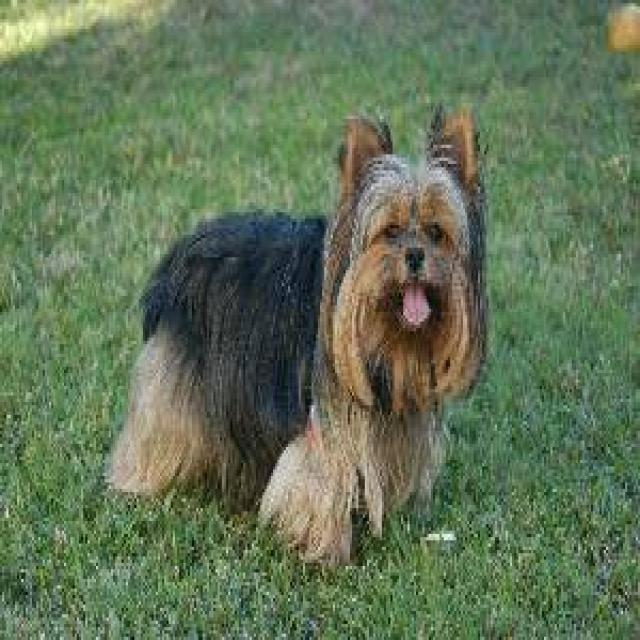dog-yorkshire_terrier: (96, 93, 491, 563)
